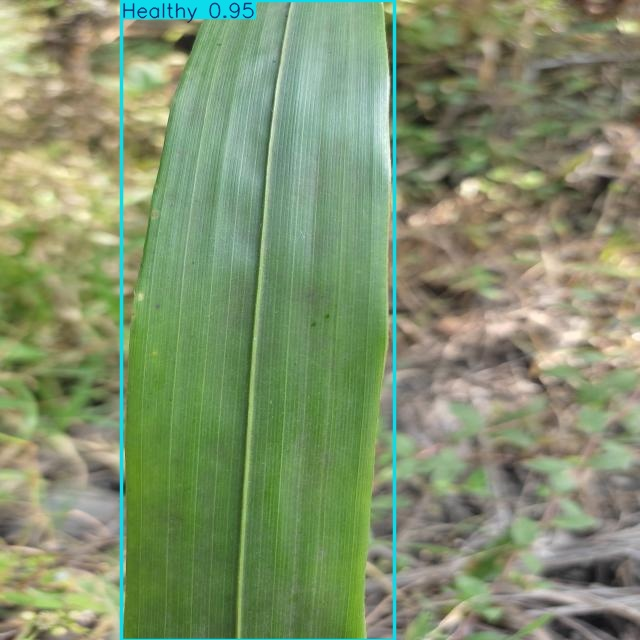Healthy: (121, 0, 395, 640)
